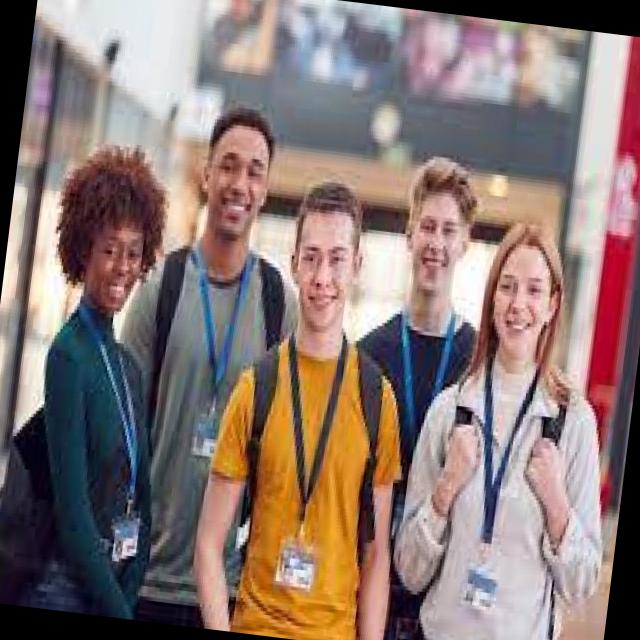id_card: (45, 306, 168, 558), (453, 359, 540, 616), (264, 330, 350, 588), (177, 244, 254, 456), (387, 302, 456, 439)
